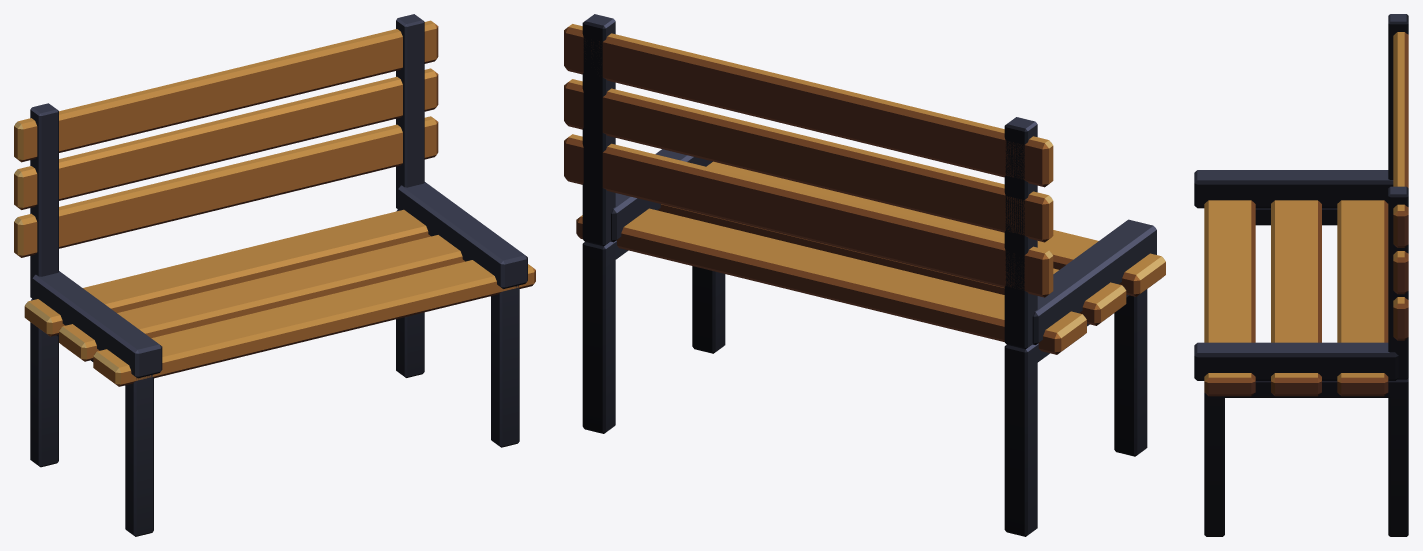
The model's file is park_bench.glb.
3 renders of one model, left to right at view 1: azimuth 30°, elevation 25°; view 2: azimuth 150°, elevation 25°; view 3: azimuth 270°, elevation 25°, orthographic. The views are drawn at different scales.
Visible parts, largest first — view 1: park_bench; view 2: park_bench; view 3: park_bench.
Part boxes in pixels (left/top/right/bottom): park_bench: left=14, top=14, right=535, bottom=536; park_bench: left=564, top=14, right=1165, bottom=536; park_bench: left=1194, top=14, right=1408, bottom=536.
Size of the model in its own units: 0.92 by 0.74 by 0.42.
